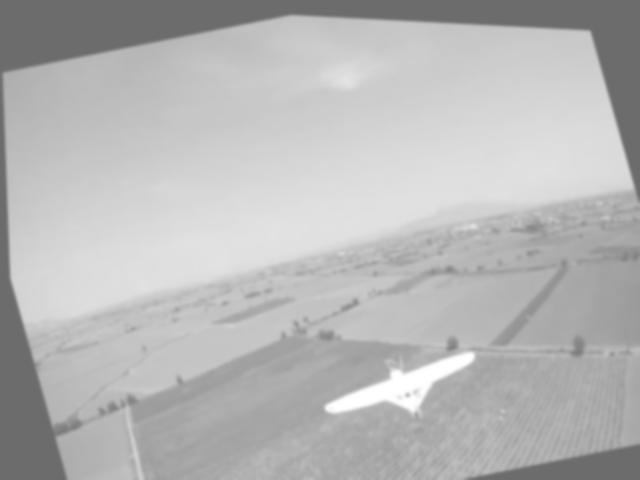hedef: (306, 316, 501, 445)
